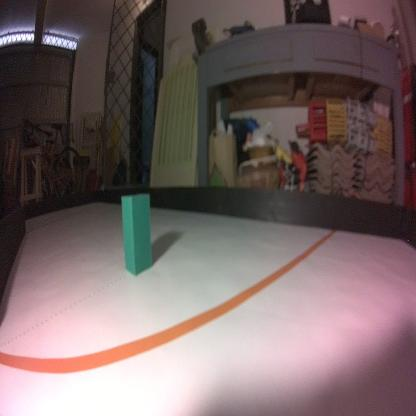green: (120, 190, 156, 280)
